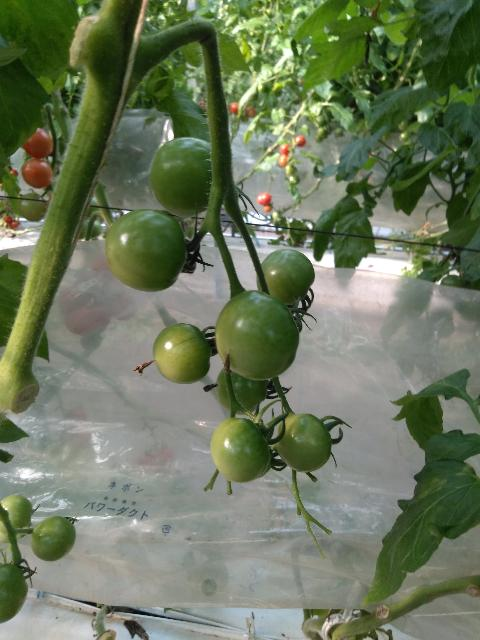l_fully_ripened: (22, 127, 54, 159)
l_green: (215, 290, 300, 381), (105, 209, 188, 292), (150, 136, 212, 219), (209, 417, 269, 483), (151, 323, 211, 385), (255, 248, 316, 306), (277, 414, 332, 473), (215, 364, 267, 415), (30, 516, 75, 562), (0, 564, 28, 624), (0, 494, 32, 536), (20, 192, 47, 222)
l_half_ripened: (21, 159, 53, 189)
